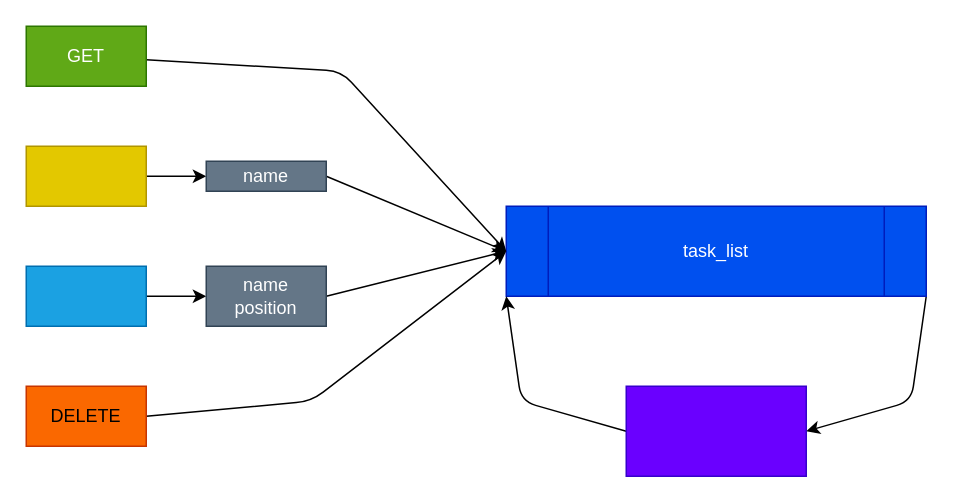
Image size: 965x503. Some labels were removed from this diagram. Each missing label, with the centre of its shape:
POST: (x=85, y=175)
PUT: (x=85, y=295)
task_list.json: (x=715, y=430)
